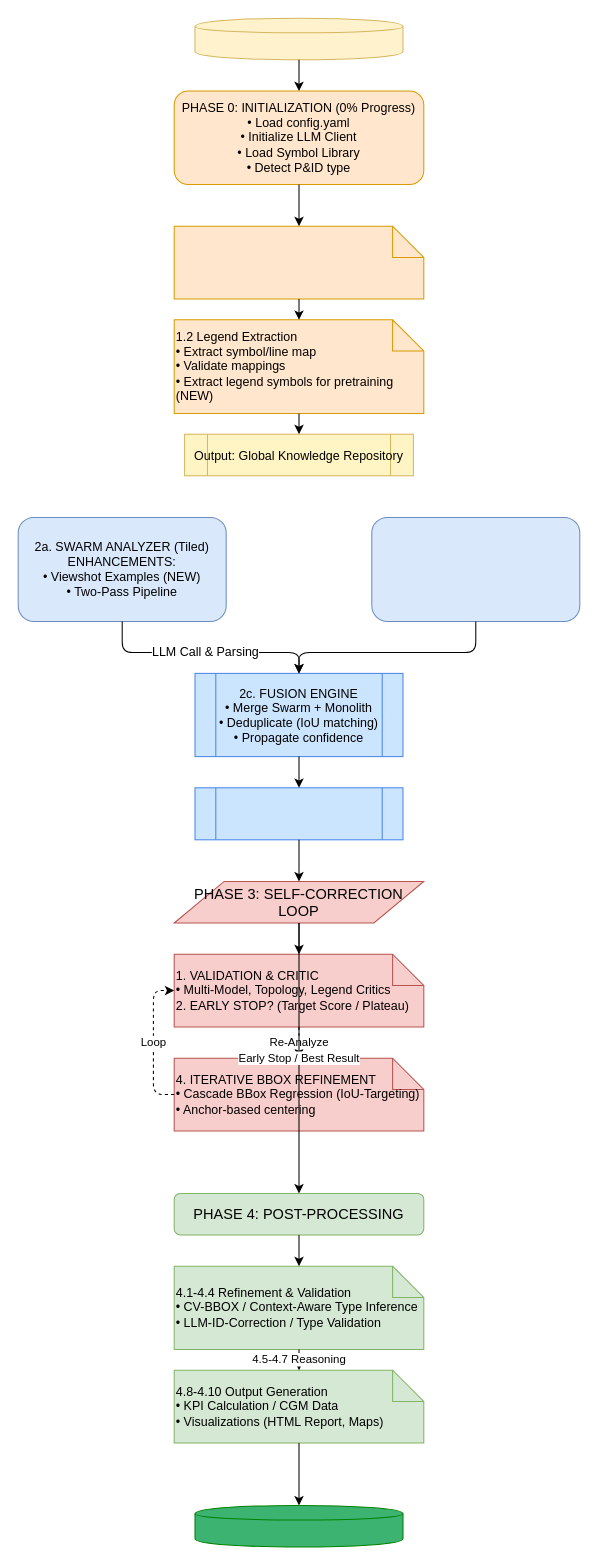
Image size: 598x1565. Some labels were removed from this diagram. The shapes that lost their labels are listed below. From the top down, each one's box as (x1, y1, x2, y2) in pixels, then its label:
(194, 17, 403, 60): INPUT: P&ID Image (PNG/JPG)
(173, 225, 424, 299): 1.1 Metadata Extraction • Extract title, project, date • Exclude metadata area
(371, 516, 580, 621): 2b. MONOLITH ANALYZER (Quadrant) ENHANCED: • Viewshot Examples • Legend Context
(194, 787, 403, 840): 2d. PREDICTIVE COMPLETION 2e. POLYLINE REFINEMENT
(194, 1504, 403, 1547): OUTPUT: AnalysisResult
